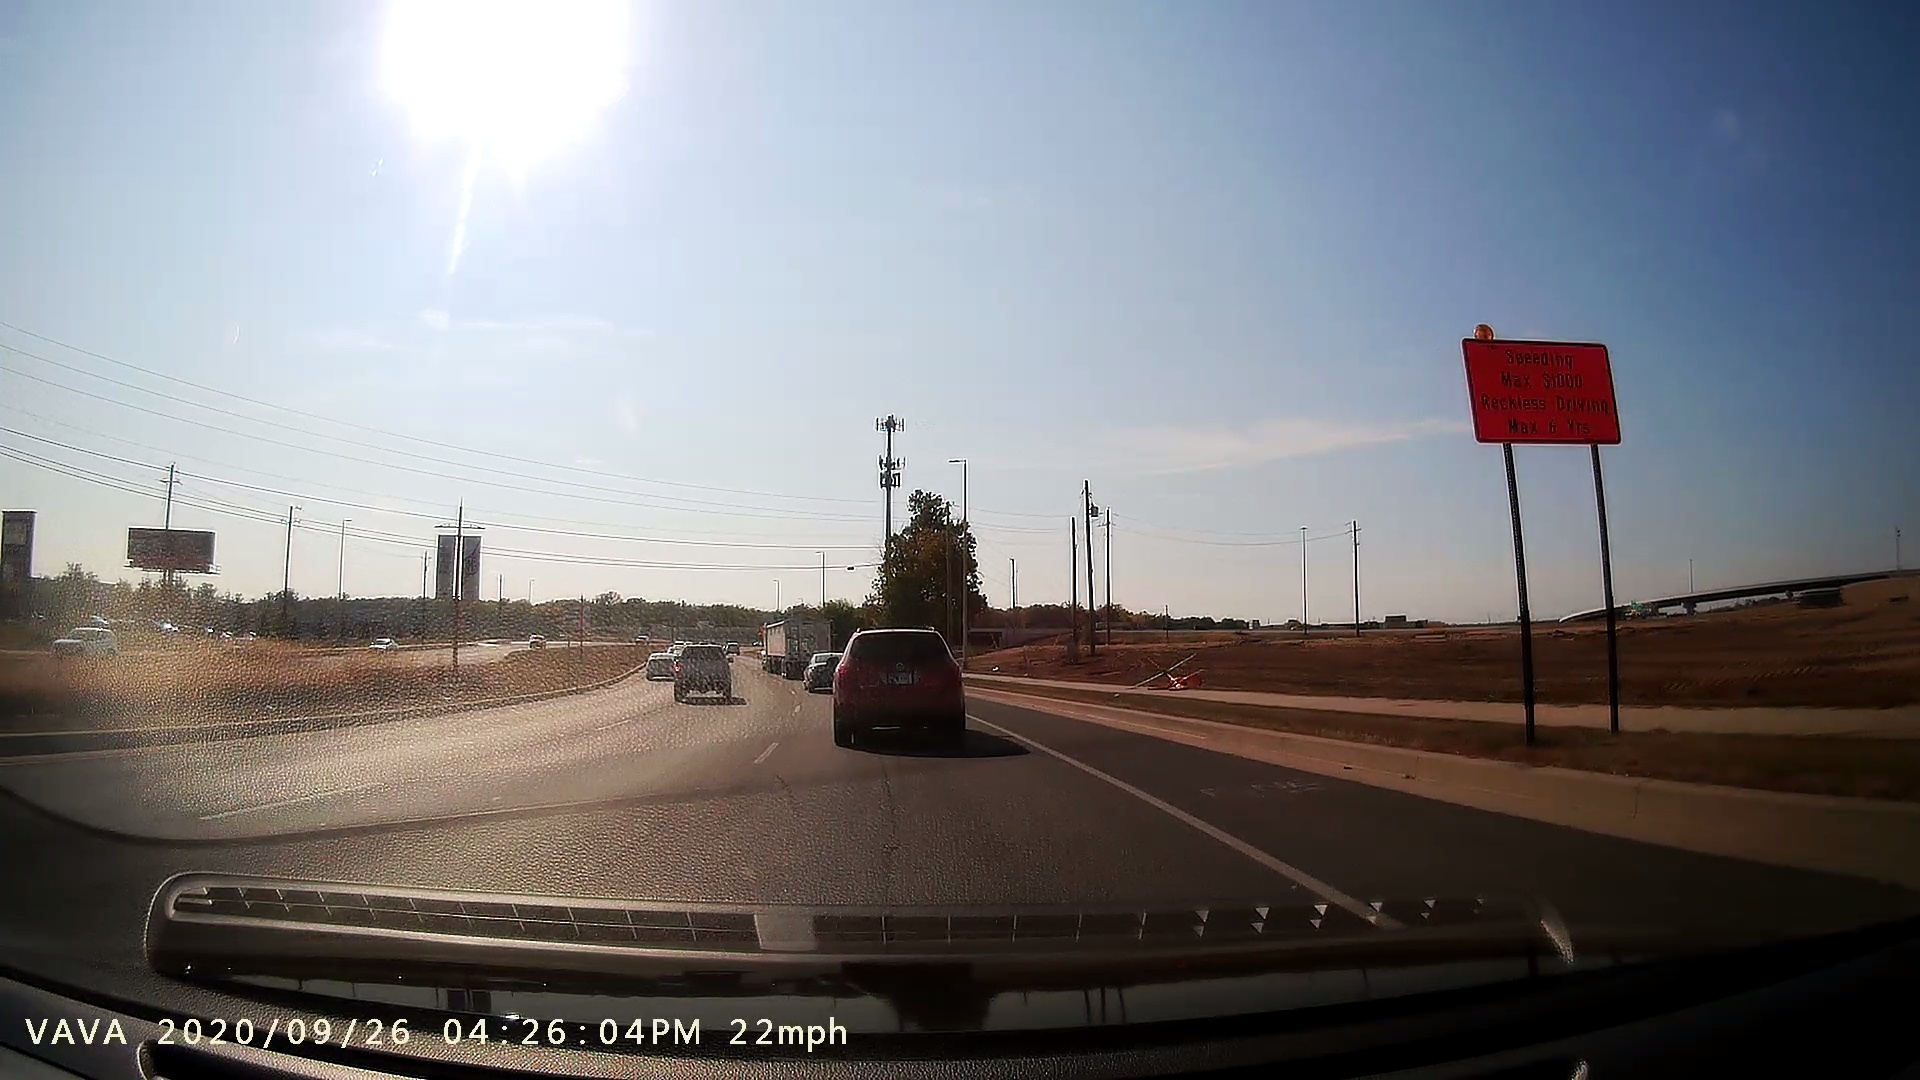temperary_sign: (1451, 313, 1652, 753)
